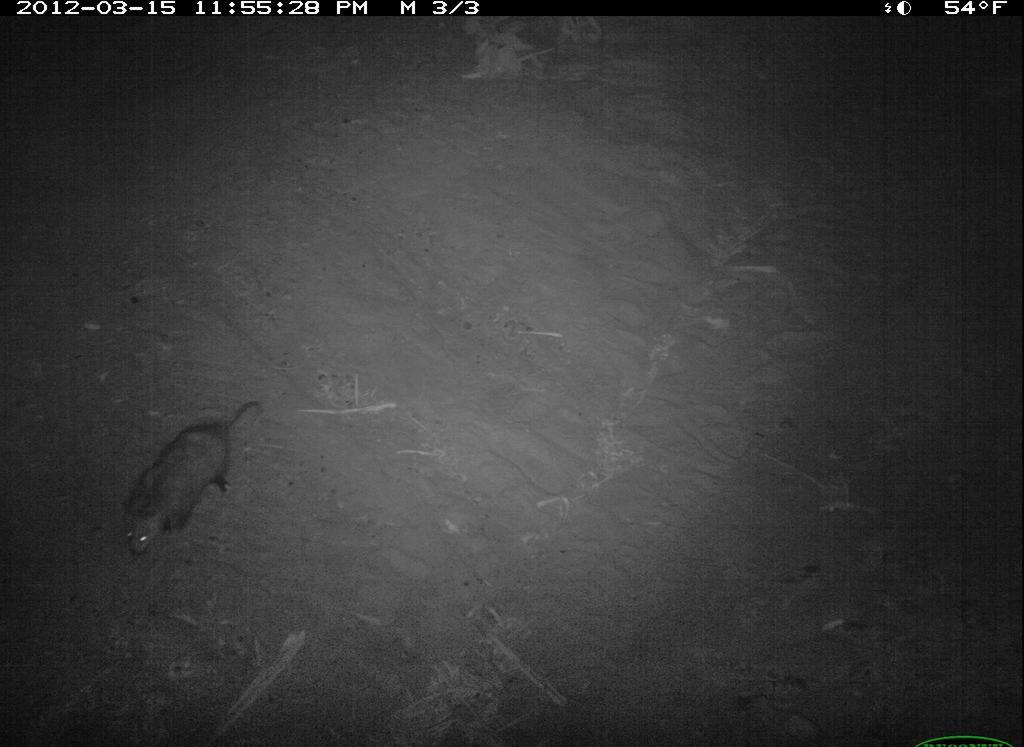opossum: (102, 395, 291, 555)
